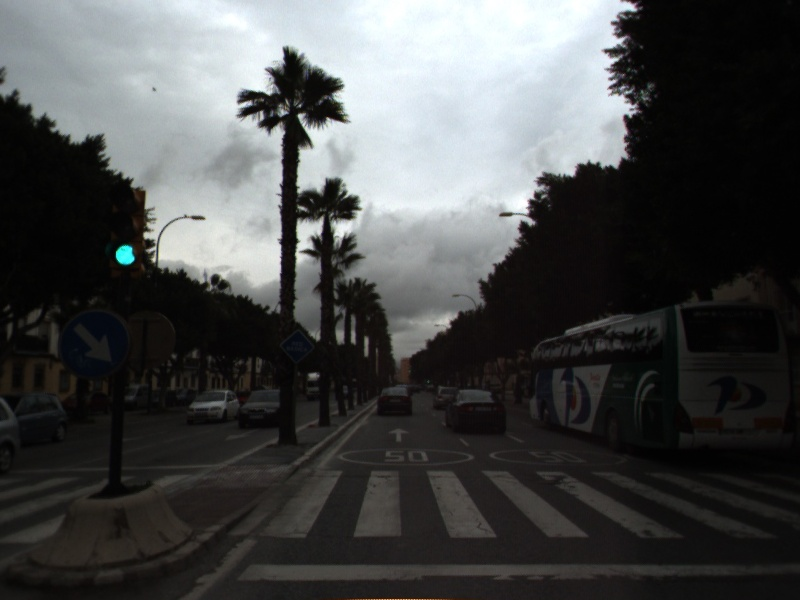STRAIGHT: (386, 426, 411, 444)
